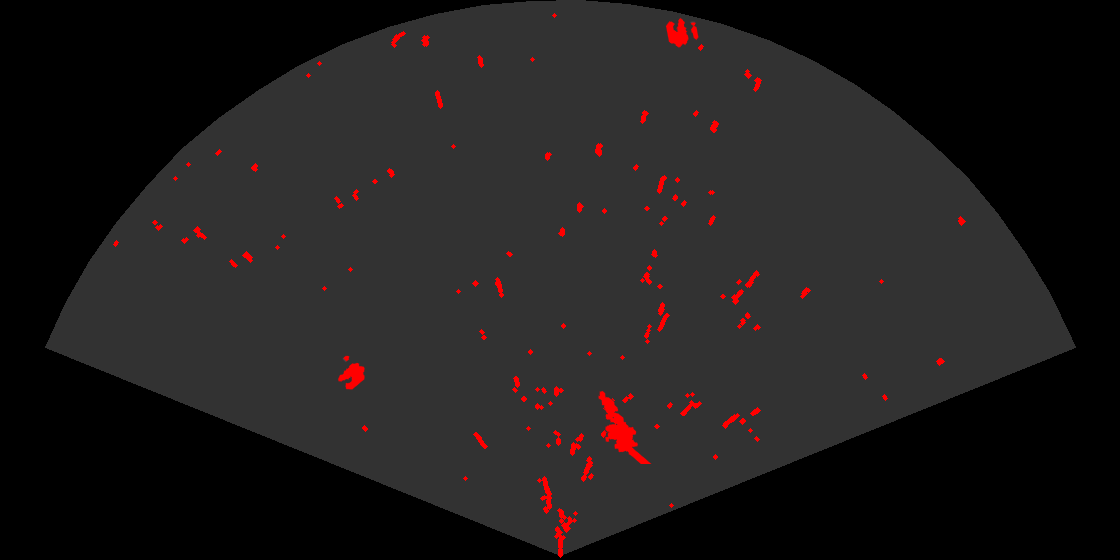ball: (664, 16, 700, 49), (336, 354, 366, 391)
frogman: (597, 389, 653, 464)
